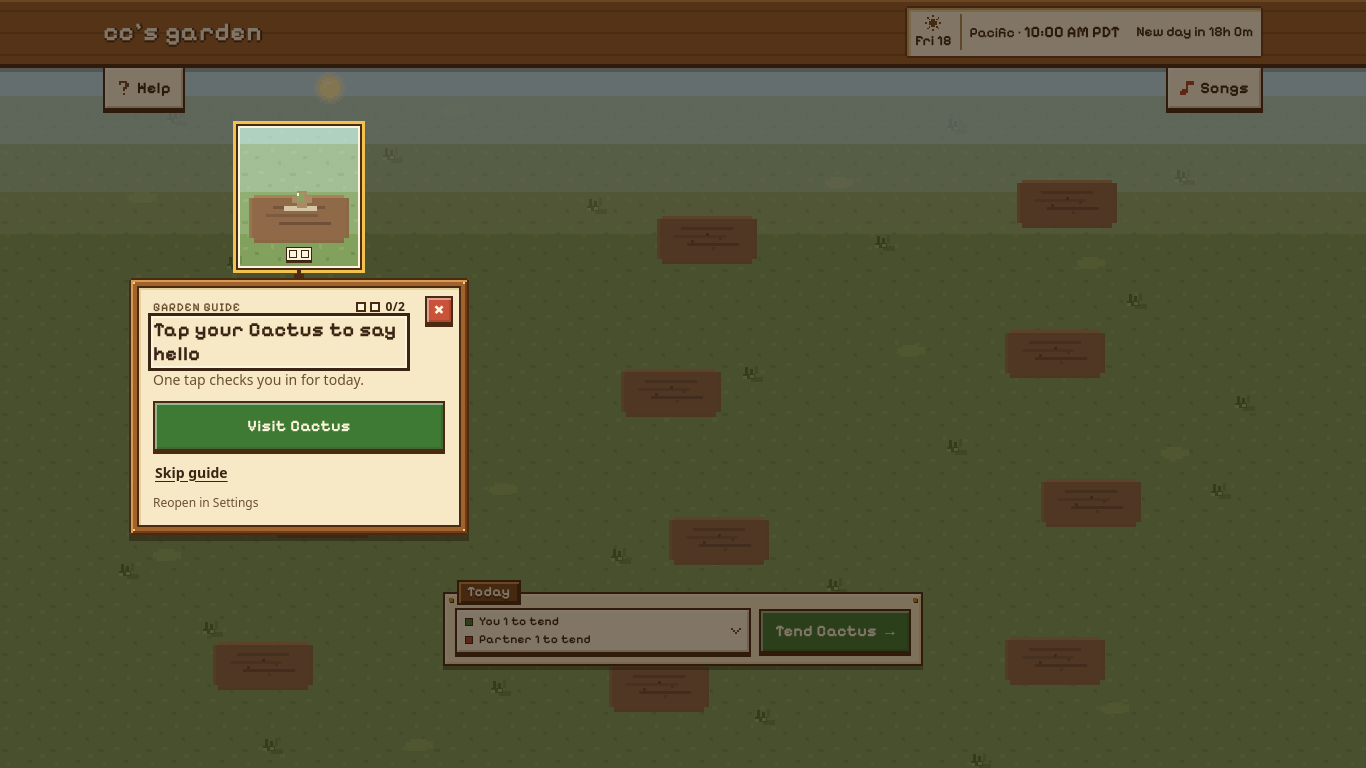
Test case: does not advance on a failed care or a success receipt without refreshed facts
This screenshot has width=1366, height=768.
Click the button "Visit Cactus": (299, 426) [153,401,445,451]
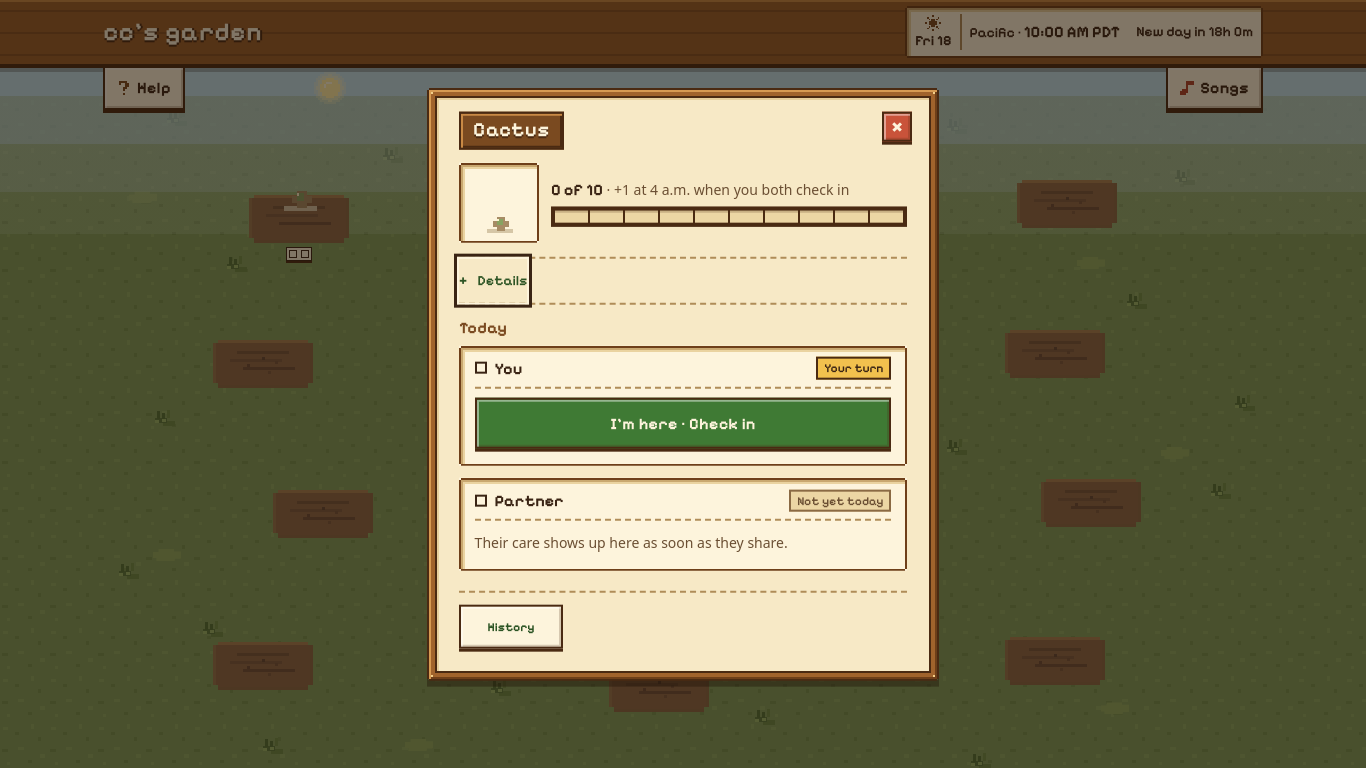
Click the button "I’m here · Check in": (683, 423) [475,398,891,448]
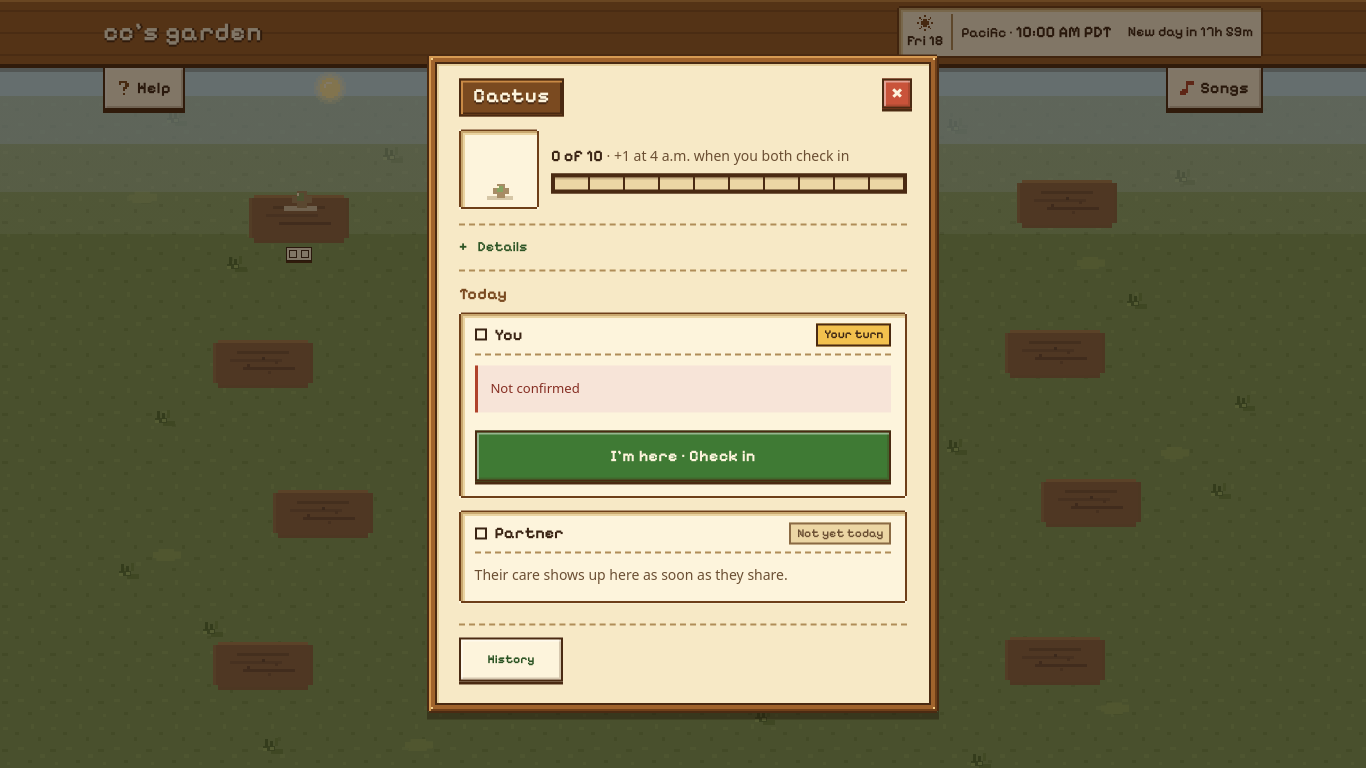
Click the button named "Close": (897, 94) [875,72,919,116]
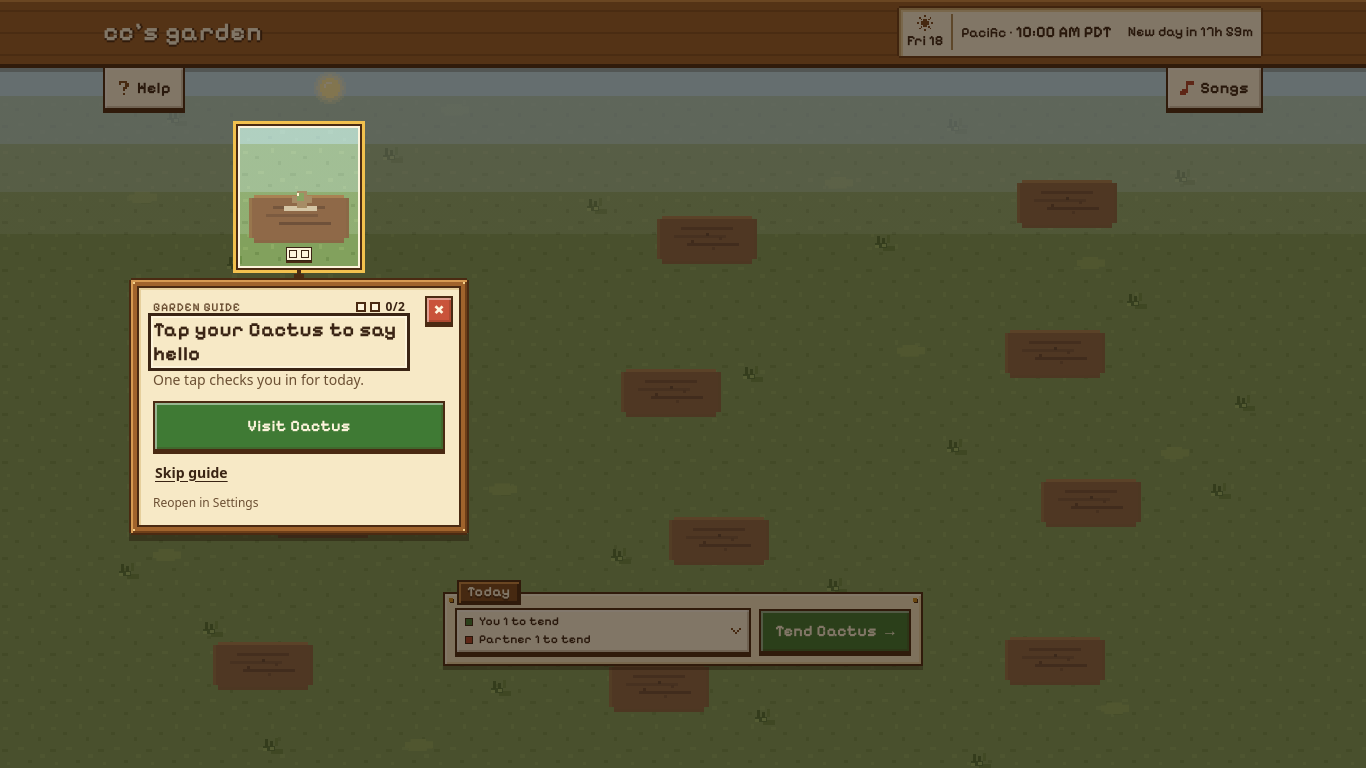
expect the button "Visit Cactus" is shown: met, box [153,401,445,451]
